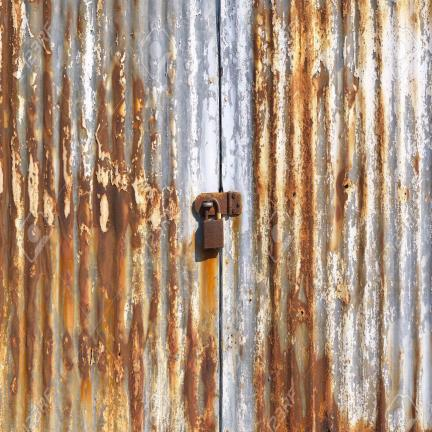karat: (0, 3, 224, 432), (248, 1, 335, 432), (202, 198, 223, 249)
